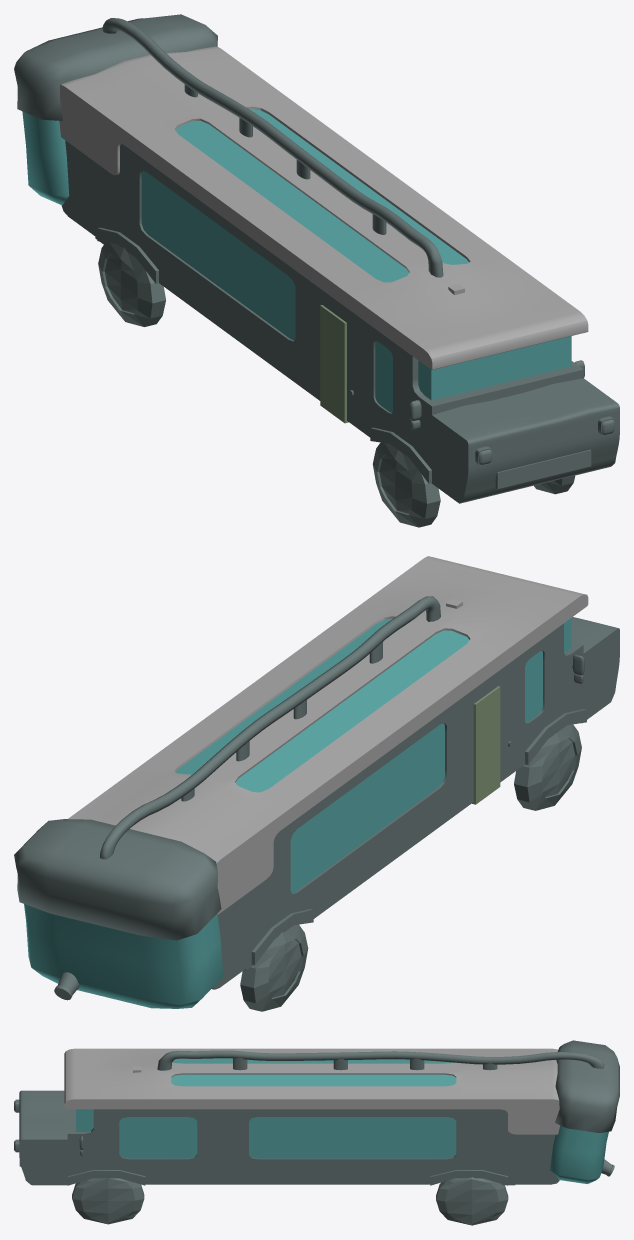
Rendered from bus_2 1.fbx.
3 views of the same model, one above another, from view 1: azimuth 30°, elevation 25°; view 2: azimuth 150°, elevation 25°; view 3: azimuth 270°, elevation 25° (orthographic). The views are drawn at different scales.
Parts seen in each view (by area): view 1: pCube1, pCube2, pCube8, nurbsToPoly1, pCube3, pCube20, pCube7, pCube13, extrudedSurface2; view 2: pCube1, pCube8, pCube7, nurbsToPoly1, pCube3, pCube20, pCube2, extrudedSurface2; view 3: pCube1, pCube8, pCube2, nurbsToPoly1, pCube22, pCube21, pCube7, extrudedSurface2.
Boxes of the visible parts, x1=… form: pCube1: x1=59, y1=46, x2=588, y2=483; pCube2: x1=430, y1=378, x2=619, y2=503; pCube8: x1=14, y1=14, x2=217, y2=120; nurbsToPoly1: x1=102, y1=18, x2=443, y2=277; pCube3: x1=98, y1=242, x2=165, y2=326; pCube20: x1=372, y1=442, x2=440, y2=527; pCube7: x1=22, y1=111, x2=69, y2=205; pCube13: x1=495, y1=449, x2=591, y2=488; extrudedSurface2: x1=184, y1=84, x2=386, y2=234; pCube1: x1=68, y1=556, x2=588, y2=989; pCube8: x1=14, y1=819, x2=221, y2=940; pCube7: x1=24, y1=904, x2=223, y2=1008; nurbsToPoly1: x1=100, y1=596, x2=440, y2=859; pCube3: x1=240, y1=924, x2=308, y2=1011; pCube20: x1=514, y1=724, x2=581, y2=810; pCube2: x1=571, y1=617, x2=619, y2=723; extrudedSurface2: x1=181, y1=642, x2=382, y2=801; pCube1: x1=64, y1=1048, x2=559, y2=1185; pCube8: x1=555, y1=1040, x2=619, y2=1132; pCube2: x1=19, y1=1090, x2=69, y2=1185; nurbsToPoly1: x1=157, y1=1050, x2=604, y2=1070; pCube22: x1=436, y1=1177, x2=508, y2=1225; pCube21: x1=72, y1=1178, x2=144, y2=1224; pCube7: x1=550, y1=1125, x2=608, y2=1183; extrudedSurface2: x1=233, y1=1058, x2=497, y2=1070.
Size of the model in its own units: 16.89 by 20.39 by 74.27.
